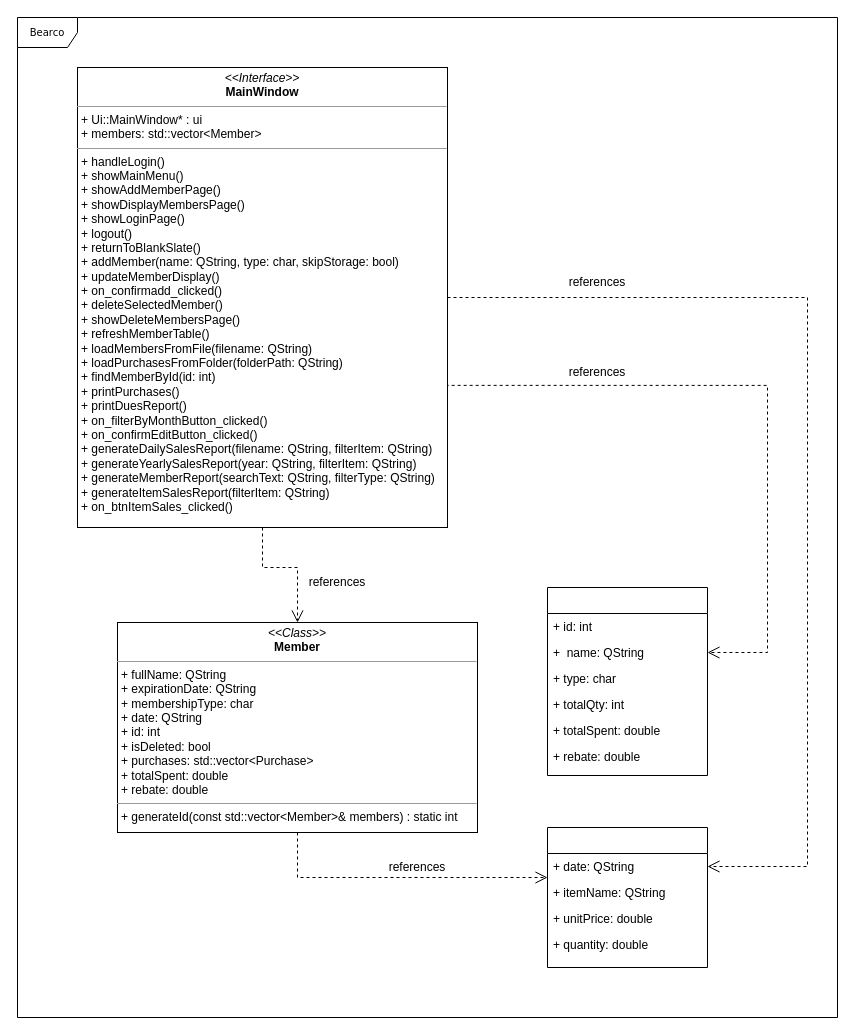
This 855x1035 diagram has some shape labels left out. The shapes that lost their labels are listed below. From the top down, each one's box as (x1, y1, x2, y2) in pixels, then its label:
(546, 586, 708, 776): MemberReportData
(546, 826, 708, 968): Purchase
